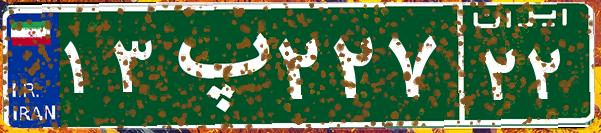1: (57, 26, 110, 107)
2: (273, 28, 330, 110), (330, 28, 385, 110), (475, 38, 525, 113), (525, 38, 570, 115)
3: (110, 28, 158, 105)
7: (385, 28, 445, 110)
پ: (158, 15, 273, 115)
